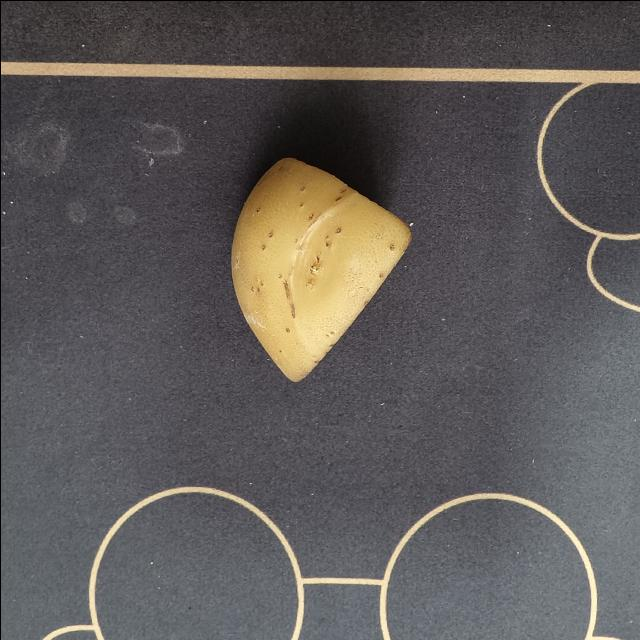-Kitchen waste - potato-: (226, 154, 412, 382)
